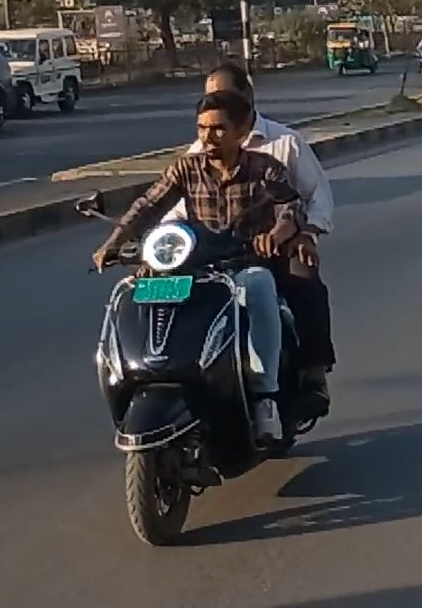BikeWithRider: (62, 54, 348, 552)
NoHelmet: (189, 94, 260, 166), (198, 62, 265, 132)
